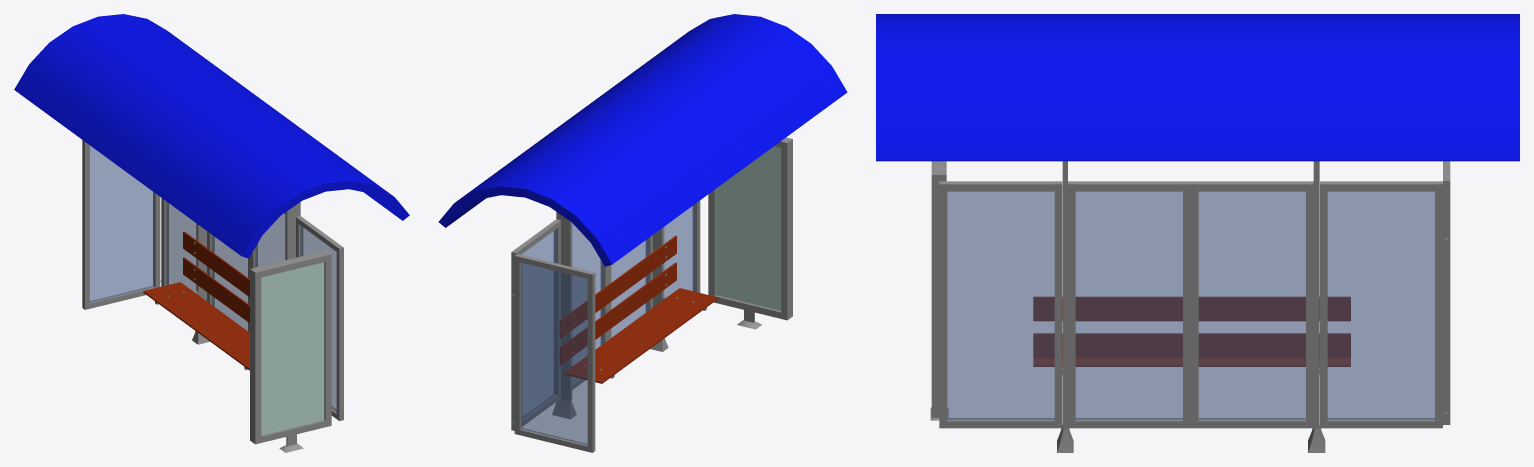
The model's file is bus stop.FBX.
The picture shows the model from 3 angles, left to right: view 1: azimuth 30°, elevation 25°; view 2: azimuth 150°, elevation 25°; view 3: azimuth 270°, elevation 25°; orthographic projection. The views are drawn at different scales.
Visible parts, largest first — view 1: bus stop, banner; view 2: bus stop, banner; view 3: bus stop, banner.
Boxes of the visible parts, x1,y1,x2,y2 form: bus stop: (14, 14, 409, 420); banner: (250, 250, 331, 452); bus stop: (438, 14, 847, 452); banner: (708, 137, 792, 329); bus stop: (876, 14, 1519, 452); banner: (930, 161, 948, 420).
Size of the model in its own units: 241 by 382 by 564.
